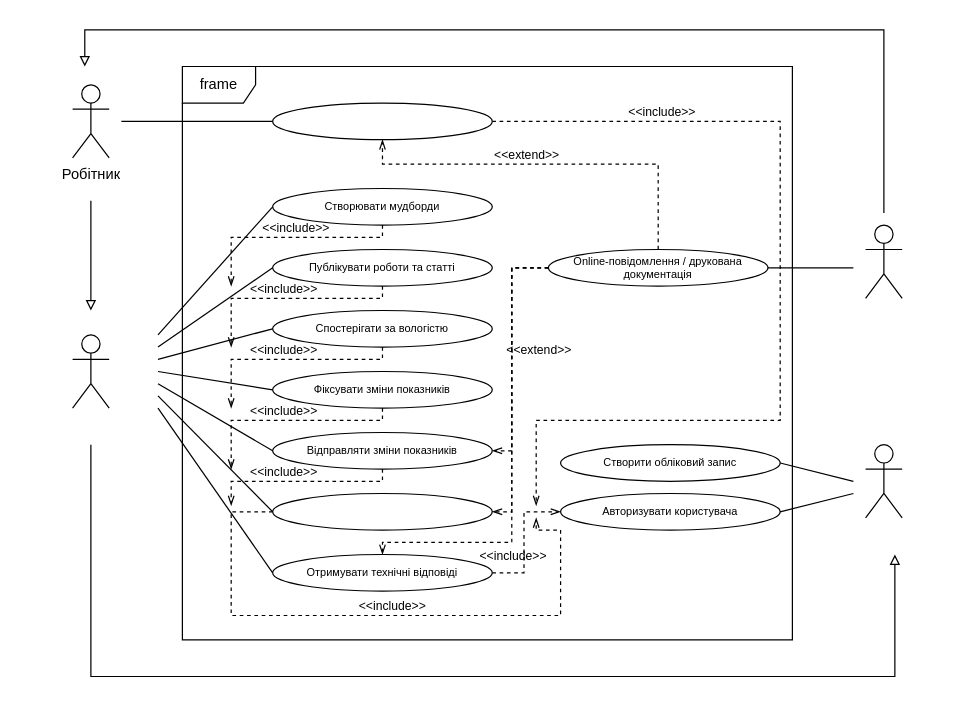
Some shapes in this 965 by 708 pixel diagram are drawn without their labels. The centre of each missing label's shape, as x and y in pixels:
"Задавати технічні запитання" goes at (x=381, y=511).
"Користувач" goes at (x=883, y=480).
"Отримувати зміни показників" goes at (x=381, y=121).
"Робітник команди" goes at (x=883, y=261).
"Скульптор-споживач" goes at (x=90, y=371).
